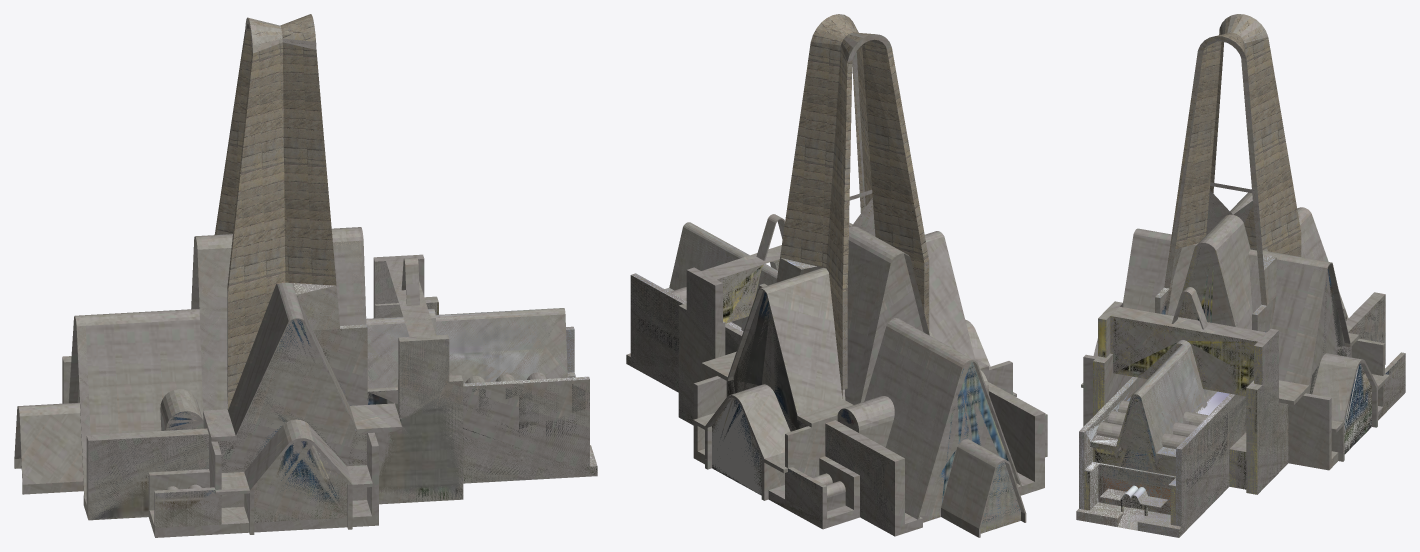
File: 2Basilica menor de santa maria.fbx
3 views of the same model, side by side, from view 1: azimuth 30°, elevation 25°; view 2: azimuth 150°, elevation 25°; view 3: azimuth 270°, elevation 25° (orthographic). The views are drawn at different scales.
Visible parts, largest first — view 1: G_5__Bas_lica_Nuestra_Se_ora_de_la_Altagracia_y_parroquia_de; view 2: G_5__Bas_lica_Nuestra_Se_ora_de_la_Altagracia_y_parroquia_de; view 3: G_5__Bas_lica_Nuestra_Se_ora_de_la_Altagracia_y_parroquia_de.
Boxes of the visible parts, box(x1,y1,x2,y2) form: G_5__Bas_lica_Nuestra_Se_ora_de_la_Altagracia_y_parroquia_de: box(14, 14, 597, 537); G_5__Bas_lica_Nuestra_Se_ora_de_la_Altagracia_y_parroquia_de: box(626, 14, 1047, 537); G_5__Bas_lica_Nuestra_Se_ora_de_la_Altagracia_y_parroquia_de: box(1076, 14, 1405, 537).
Bounding box in the file's own units: 83.04 × 72.32 × 54.48.
